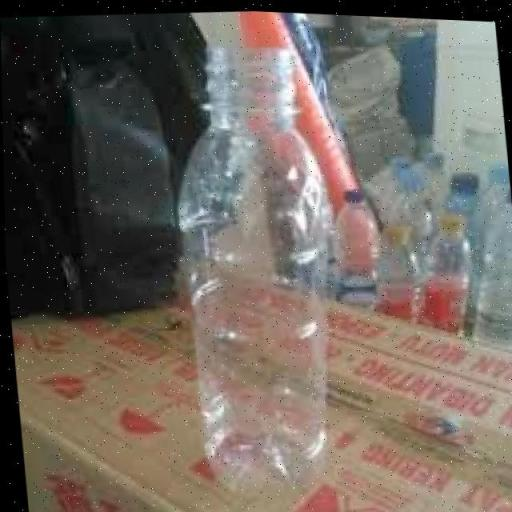plastic: (166, 30, 354, 482)
